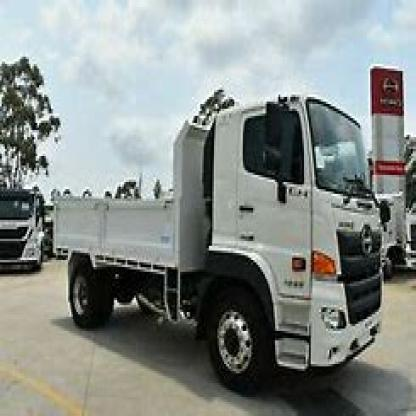dump_truck: (55, 78, 386, 397)
